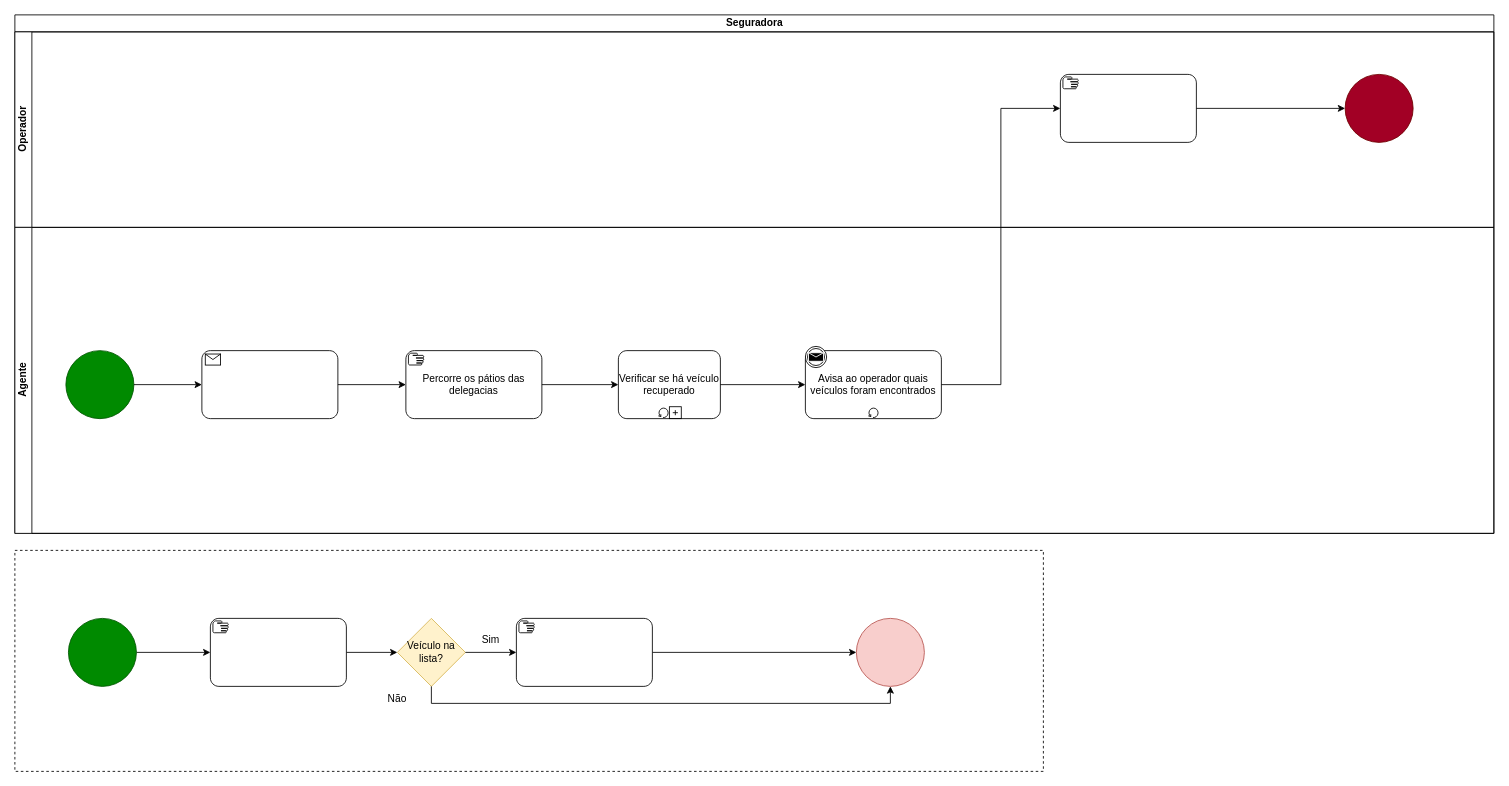
Some shapes in this 1509 by 786 pixel diagram are drawn without their labels. The centre of each missing label's shape, as x and y in pixels:
"Marca na lista" goes at point (584, 652).
"Operador envia e-mails para os proprietários dos carros" goes at point (1128, 108).
"Recebe o e-mail com a lista de veículos" goes at point (269, 384).
"Verifica se a placa e o chassi do carro está na lista" goes at point (278, 652).
